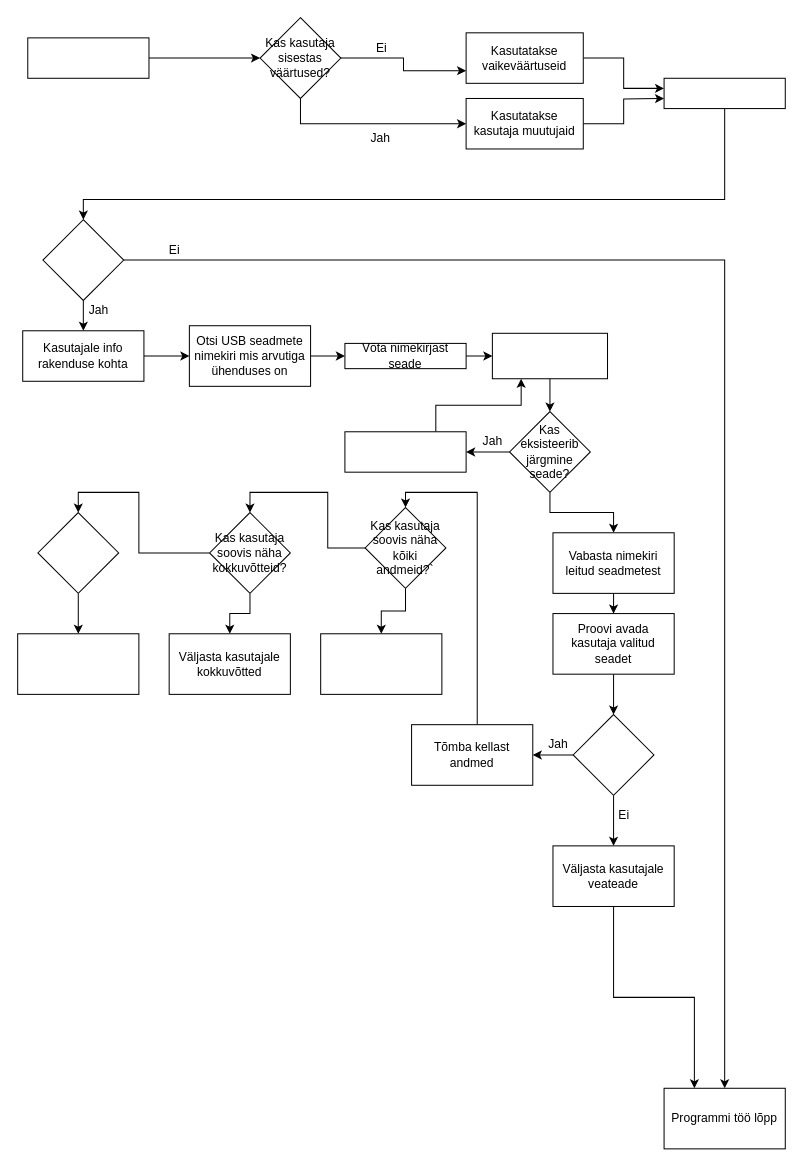
Some shapes in this 803 by 1167 pixel diagram are drawn without their labels. The centre of each missing label's shape, as x and y in pixels:
Initsialiseeritakse teek: [724,93]
Kas kasutaja soovis seada uut eesmärki?: [78,552]
Kas teek initsialiseeriti edukalt?: [83,259]
Kas õnnestus seade avada?: [613,754]
Programm käivitatakse: [88,57]
Väljasta kasutajale kõik andmed: [381,663]
Väljasta seadme kohta informatsiooni: [549,355]
Võta järgmine seade: [405,451]
